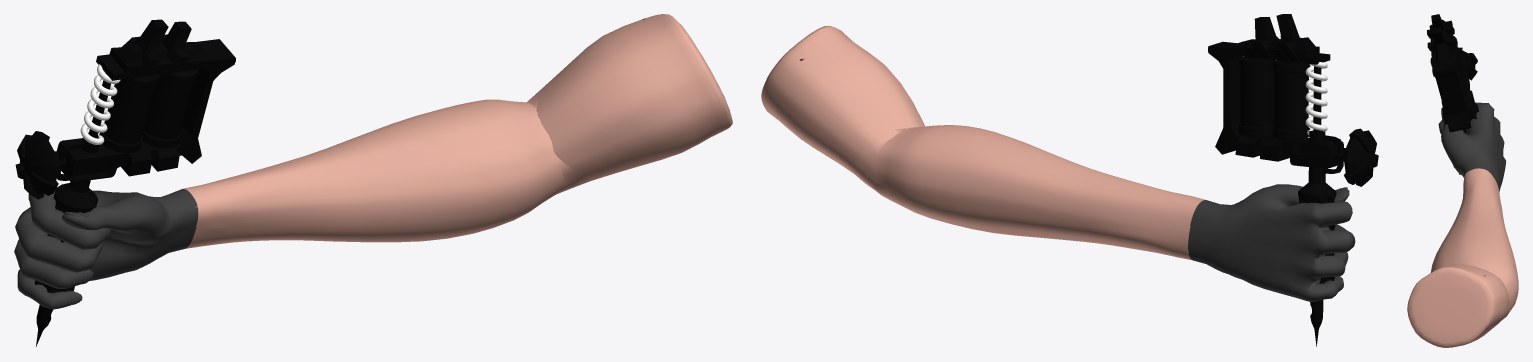
The model's file is npc_Tatgun04.fbx.
3 renders of one model, left to right at view 1: azimuth 30°, elevation 25°; view 2: azimuth 150°, elevation 25°; view 3: azimuth 270°, elevation 25°, orthographic. The views are drawn at different scales.
Parts seen in each view (by area): view 1: tatgun04; view 2: tatgun04; view 3: tatgun04.
Boxes of the visible parts, x1,y1,x2,y2 form: tatgun04: (14,14,732,346); tatgun04: (761,14,1378,346); tatgun04: (1407,14,1518,347).
Bounding box in the file's own units: 416 × 194 × 90.94.
2 materials, 1 textured.
